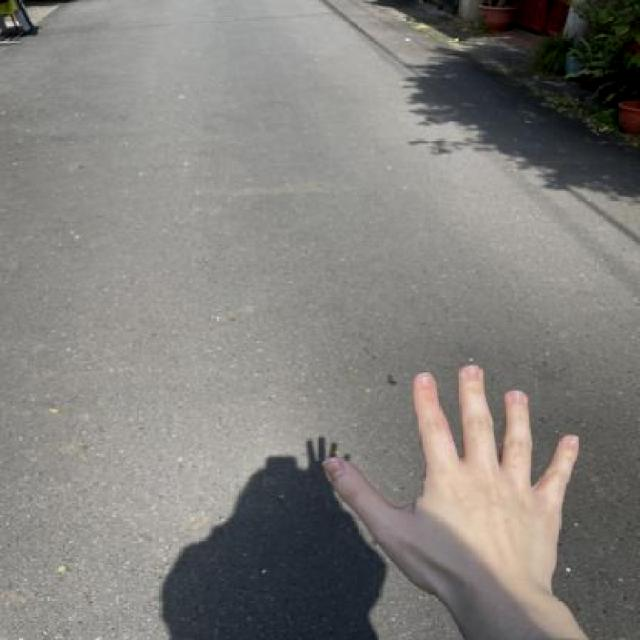no_glove: (311, 355, 591, 640)
